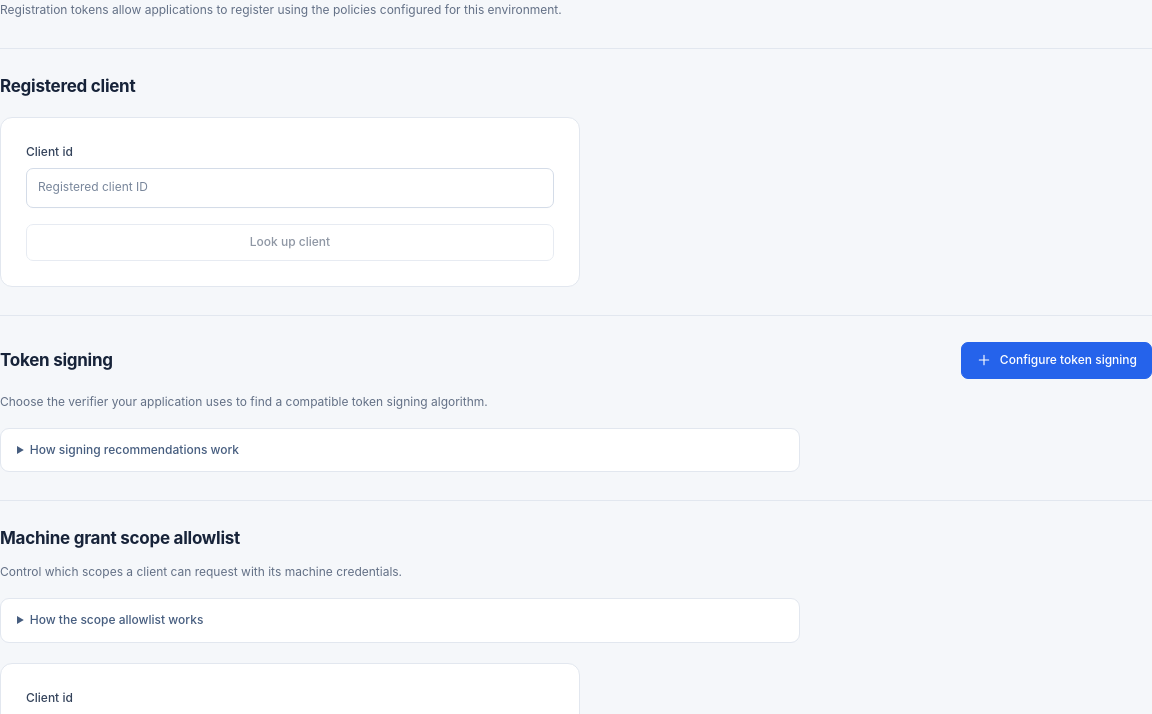
Test: the signing compatibility wizard renders the server's recommendation › shows EdDSA and its reason when a modern JOSE library is the verifier
(page scrolled)
Click the button "Configure token signing": (1056,360) x1=961 y1=342 x2=1151 y2=379
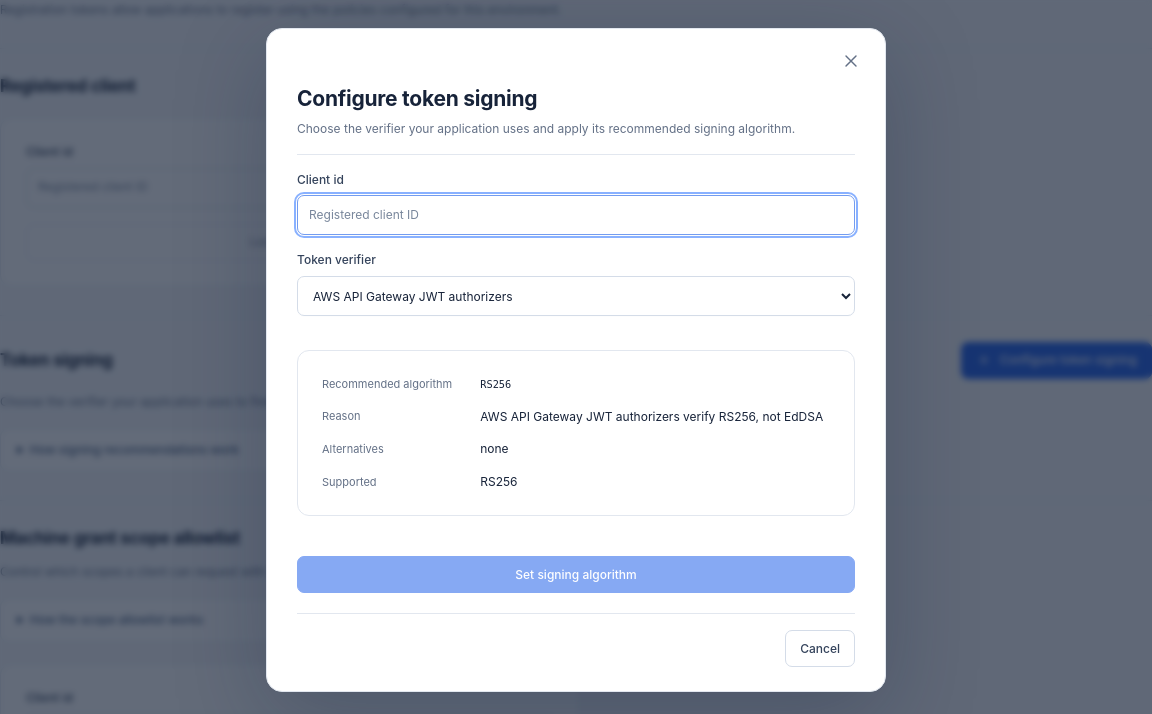
Select "Modern JOSE library" in the dropdown with id "signing-verifier": (576,296) x1=297 y1=276 x2=855 y2=316
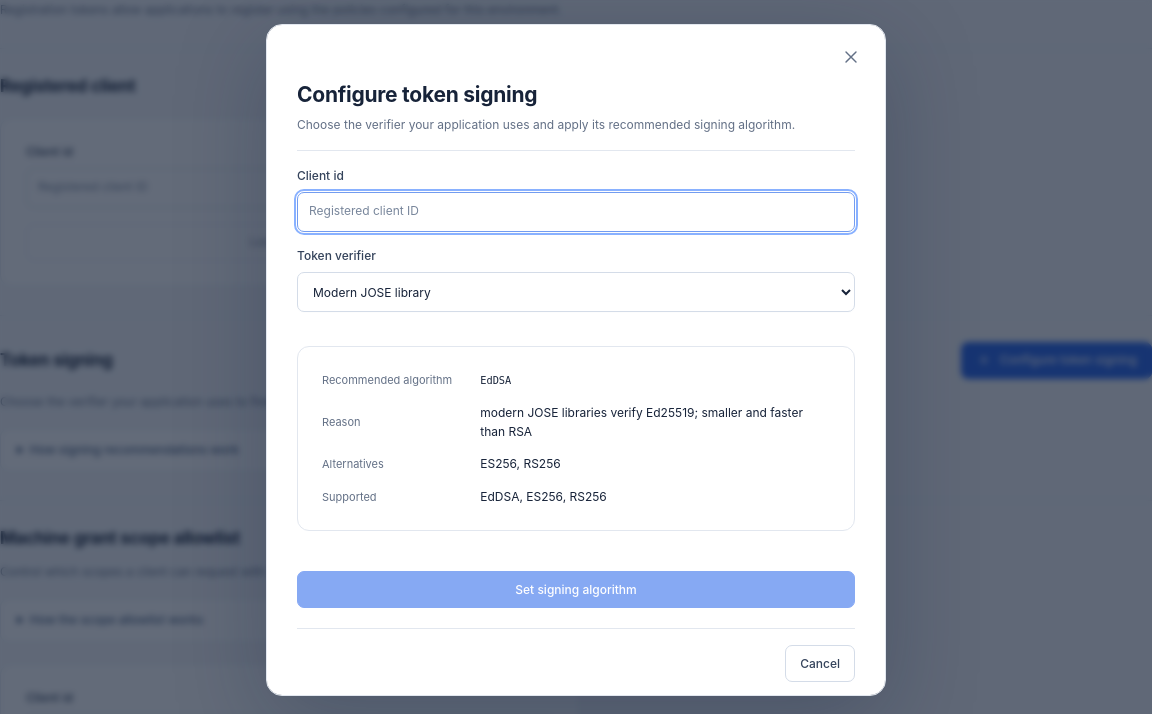
Now the text with class "signing-recommended" reads "EdDSA", box x1=480 y1=374 x2=511 y2=386
Now the text with class "signing-reason" reads "modern JOSE libraries verify Ed25519; smaller and faster than RSA", box x1=480 y1=405 x2=803 y2=439
